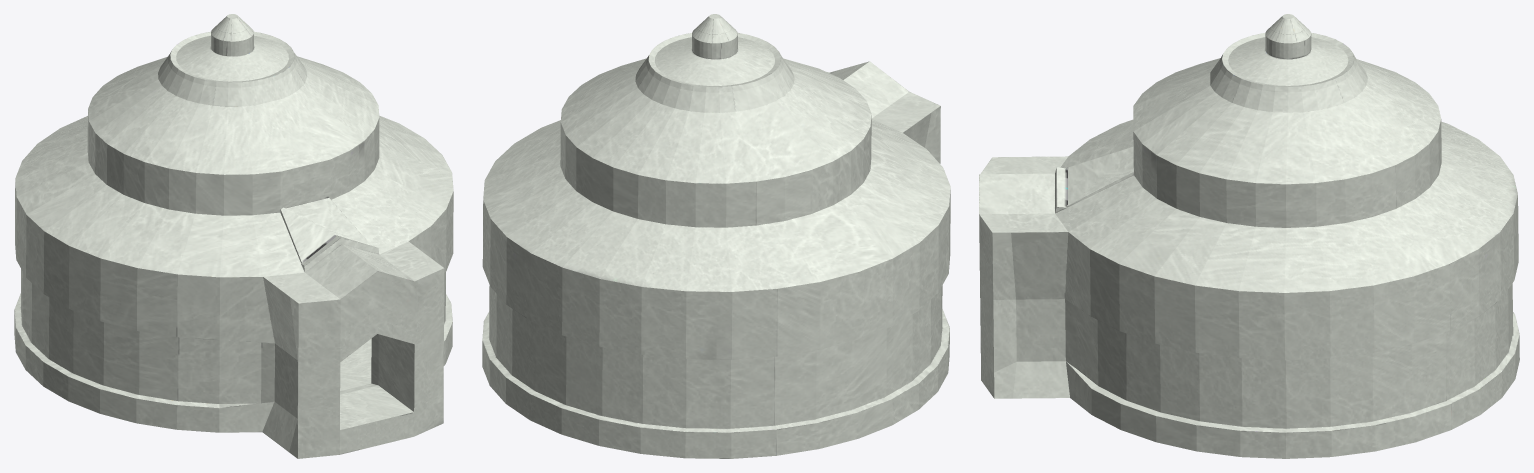
File: tend_3.fbx
3 views of the same model, side by side, from view 1: azimuth 30°, elevation 25°; view 2: azimuth 150°, elevation 25°; view 3: azimuth 270°, elevation 25° (orthographic). The views are drawn at different scales.
Parts seen in each view (by area): view 1: Cylinder; view 2: Cylinder; view 3: Cylinder.
Part boxes in pixels (left/top/right/bottom): Cylinder: left=14, top=14, right=453, bottom=458; Cylinder: left=482, top=14, right=950, bottom=458; Cylinder: left=979, top=14, right=1519, bottom=458.
Size of the model in its own units: 8006 by 6528 by 9260.
